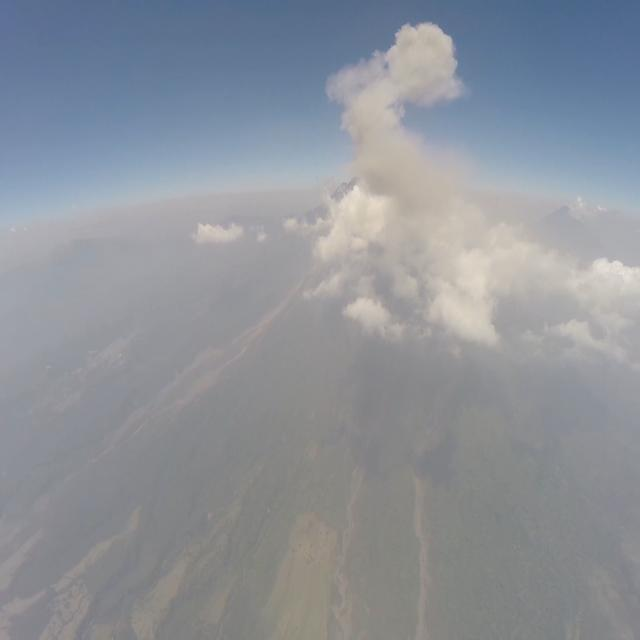Plume: (322, 19, 468, 232)
